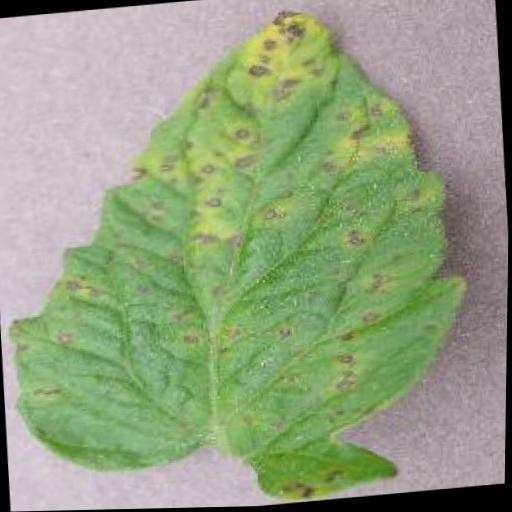Septoria: (0, 0, 482, 512)
